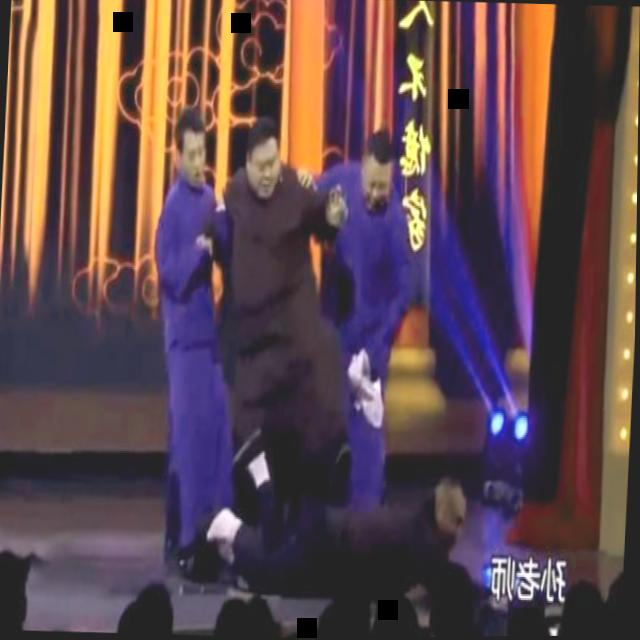Fall-Detected: (181, 451, 485, 639)
